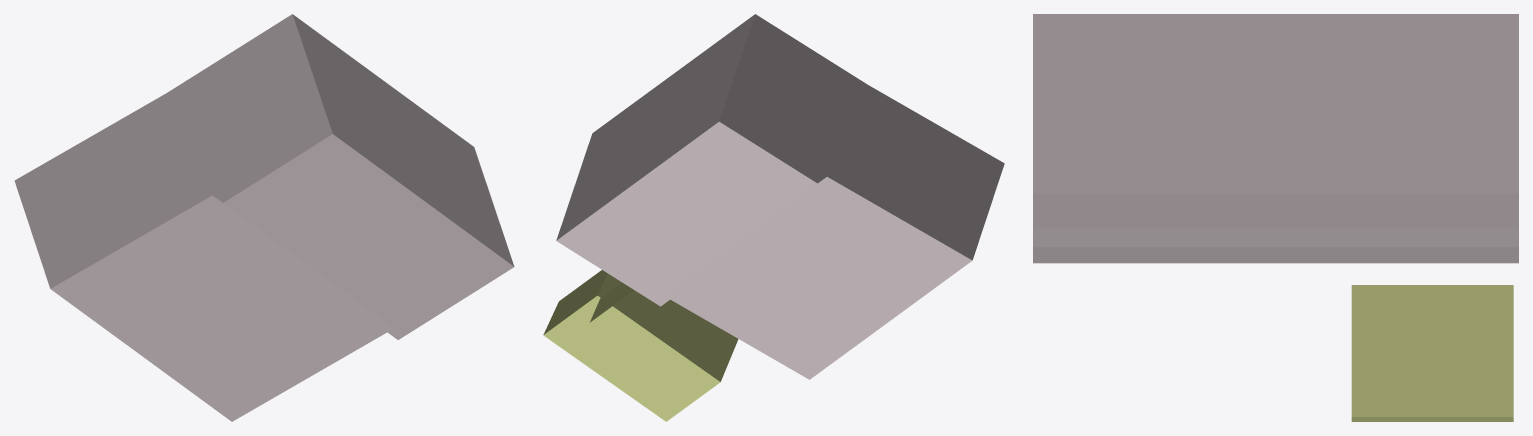
The picture shows the model from 3 angles, left to right: view 1: azimuth 30°, elevation 25°; view 2: azimuth 150°, elevation 25°; view 3: azimuth 270°, elevation 25°; orthographic projection. The views are drawn at different scales.
Parts seen in each view (by area): view 1: 0_3_1_3_0_0_0_3_2; view 2: 0_3_1_3_0_0_0_3_2; view 3: 0_3_1_3_0_0_0_3_2.
Boxes of the visible parts, bbox=[...] form: 0_3_1_3_0_0_0_3_2: bbox=[14, 14, 514, 421]; 0_3_1_3_0_0_0_3_2: bbox=[543, 14, 1004, 421]; 0_3_1_3_0_0_0_3_2: bbox=[1033, 14, 1518, 421].
Bounding box in the file's own units: 19.15 × 16.6 × 18.
